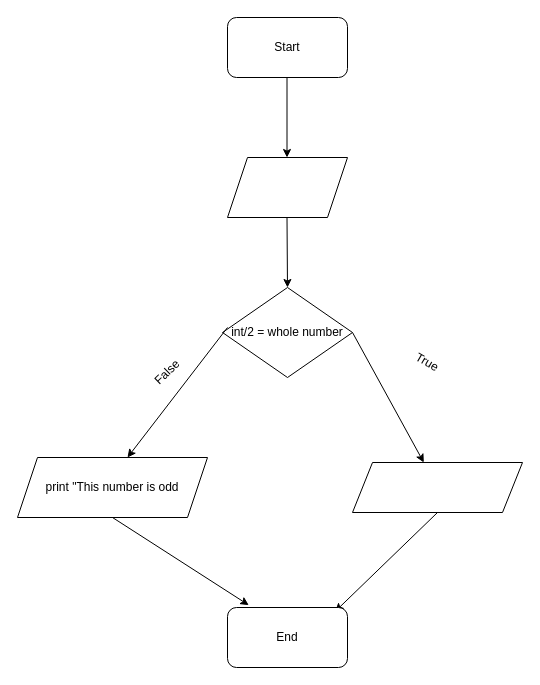
This 540x685 diagram has some shape labels left out. The centre of each missing label's shape, as x and y in pixels:
Input=int: [287,187]
print "This number is even: [437,487]
